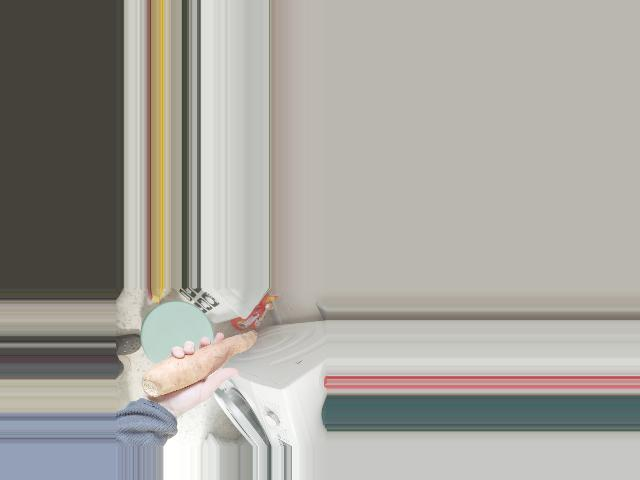sweet_potato: (139, 325, 265, 400)
